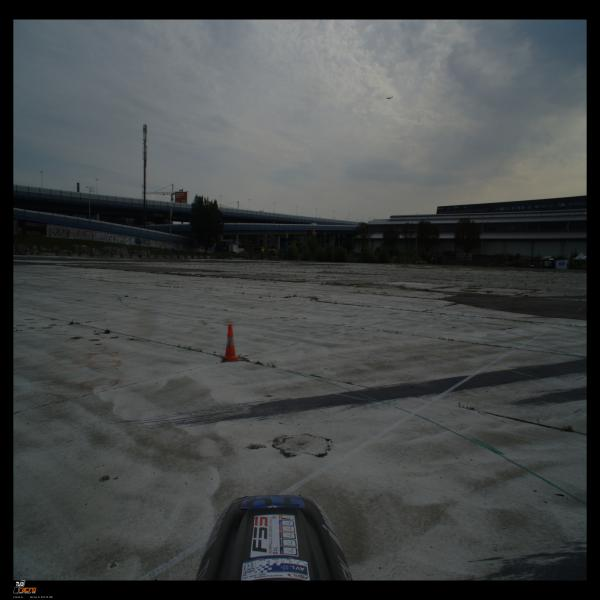orange_cone: (222, 324, 238, 361)
